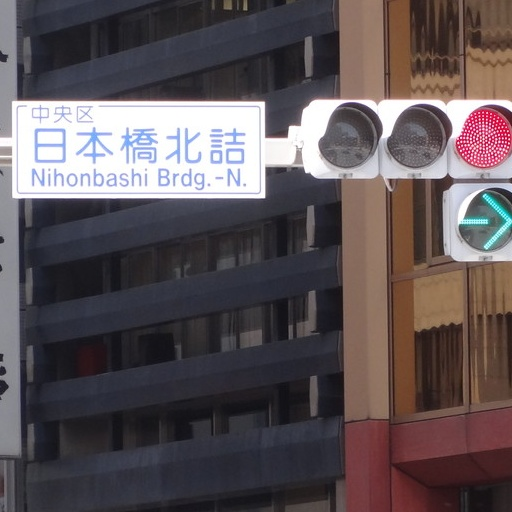Traffic_Signal_Red: (296, 88, 511, 184)
